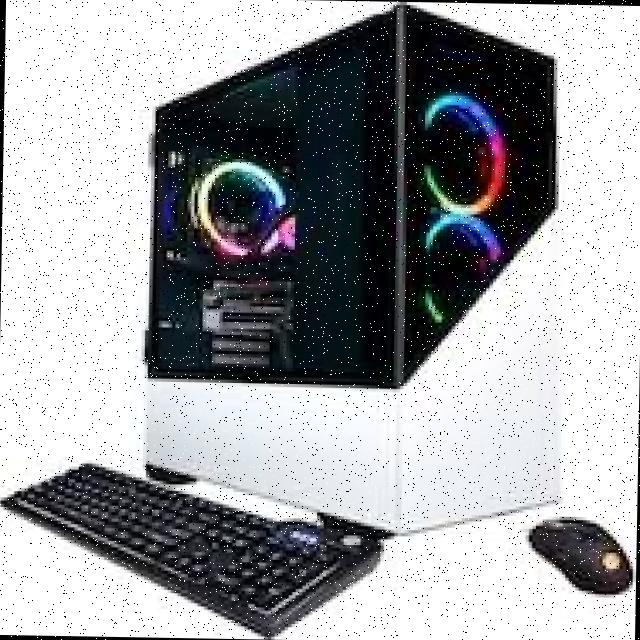Computer: (113, 0, 588, 537)
